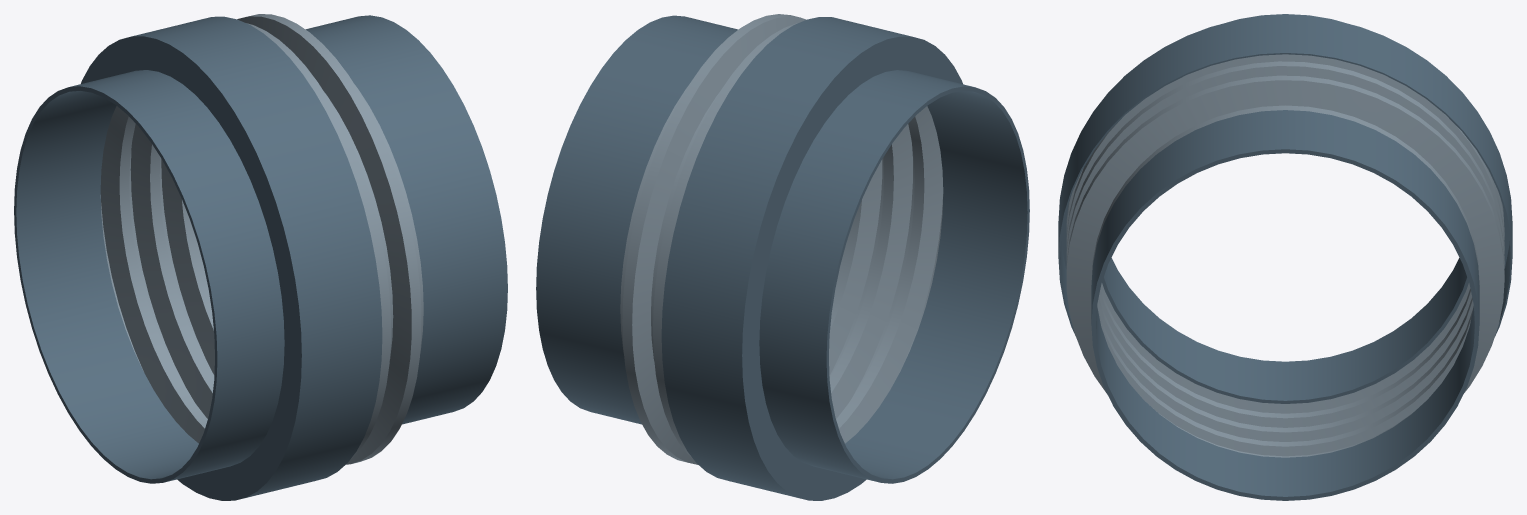
Rendered from silf-dn1200-L1006-D1220-k-o1520.glb.
3 renders of one model, left to right at view 1: azimuth 30°, elevation 25°; view 2: azimuth 150°, elevation 25°; view 3: azimuth 270°, elevation 25°, orthographic. The views are drawn at different scales.
Visible parts, largest first — view 1: patrubok_1, osnovanie_kozhuh_1, prokladka_silfon_1, patrubok_2; view 2: patrubok_1, osnovanie_kozhuh_1, prokladka_silfon_1, patrubok_2; view 3: prokladka_silfon_1, patrubok_2, osnovanie_kozhuh_1, patrubok_1.
Part boxes in pixels (<box>): patrubok_1: <box>14,70,284,483</box>; osnovanie_kozhuh_1: <box>81,16,382,500</box>; prokladka_silfon_1: <box>100,14,423,464</box>; patrubok_2: <box>305,15,507,424</box>; patrubok_1: <box>759,70,1029,483</box>; osnovanie_kozhuh_1: <box>661,17,962,500</box>; prokladka_silfon_1: <box>620,14,943,464</box>; patrubok_2: <box>536,15,738,424</box>; prokladka_silfon_1: <box>1066,54,1504,457</box>; patrubok_2: <box>1091,110,1479,500</box>; osnovanie_kozhuh_1: <box>1058,15,1512,336</box>; patrubok_1: <box>1102,14,1468,403</box>.
Size of the model in its own units: 1006 by 1427 by 1427.
